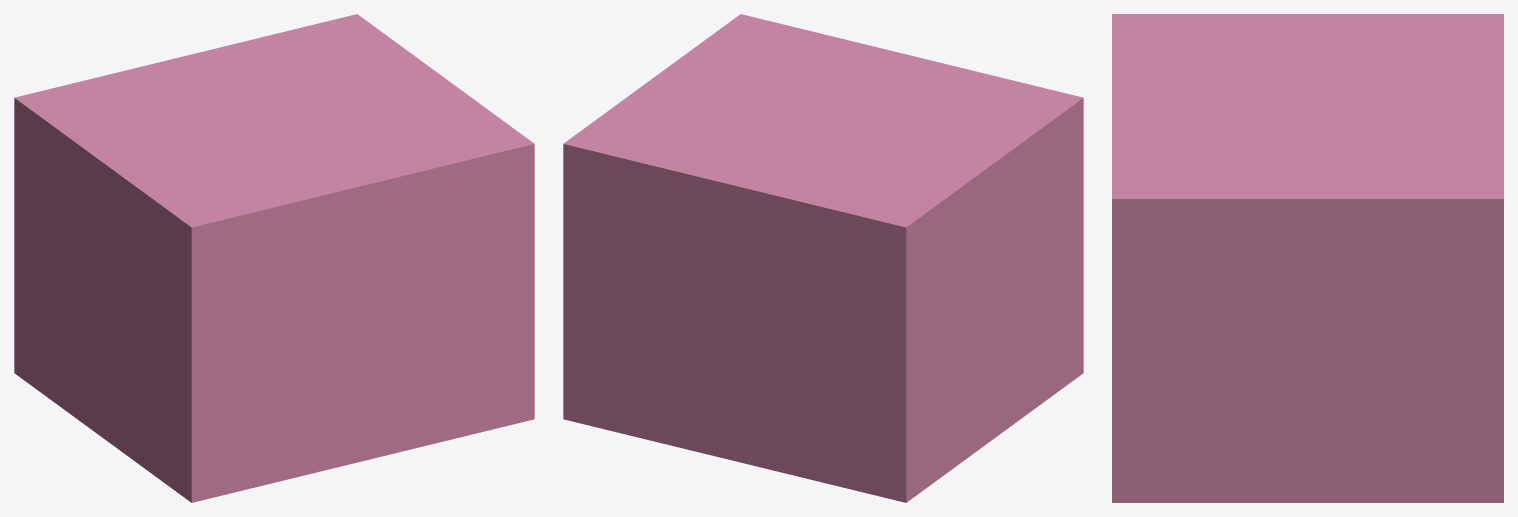
The model's file is tree_oak_bush_b.dae.
3 renders of one model, left to right at view 1: azimuth 30°, elevation 25°; view 2: azimuth 150°, elevation 25°; view 3: azimuth 270°, elevation 25°, orthographic. The views are drawn at different scales.
Visible parts, largest first — view 1: Untitled; view 2: Untitled; view 3: Untitled.
Boxes of the visible parts, x1,y1,x2,y2 form: Untitled: (14, 14, 534, 502); Untitled: (563, 14, 1083, 502); Untitled: (1112, 14, 1503, 502).
Bounding box in the file's own units: 2.09 × 1.87 × 1.6.
